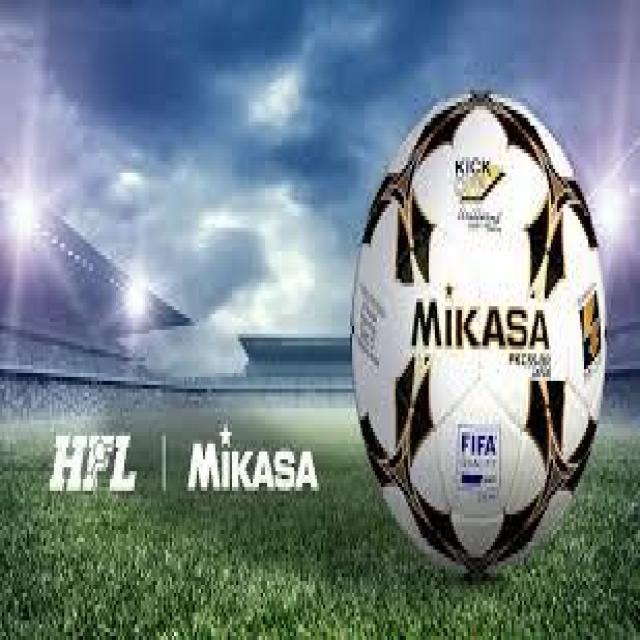Soccer Ball: (350, 86, 607, 570)
